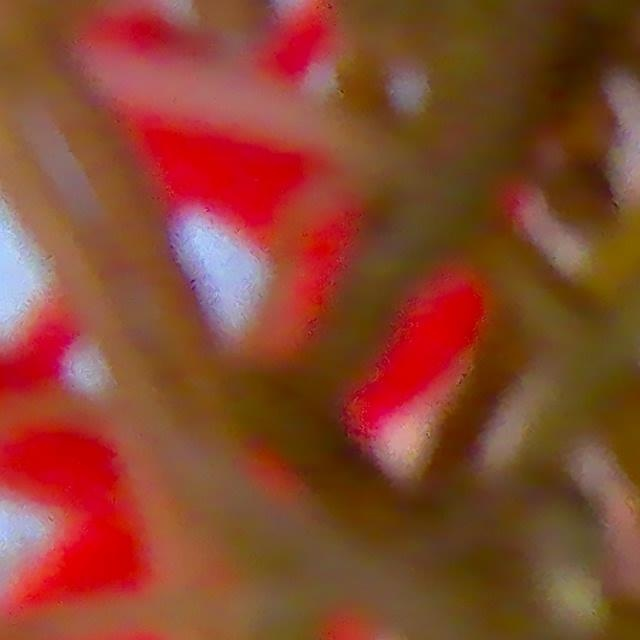SeaGrape: (543, 167, 621, 241), (560, 99, 623, 166)
